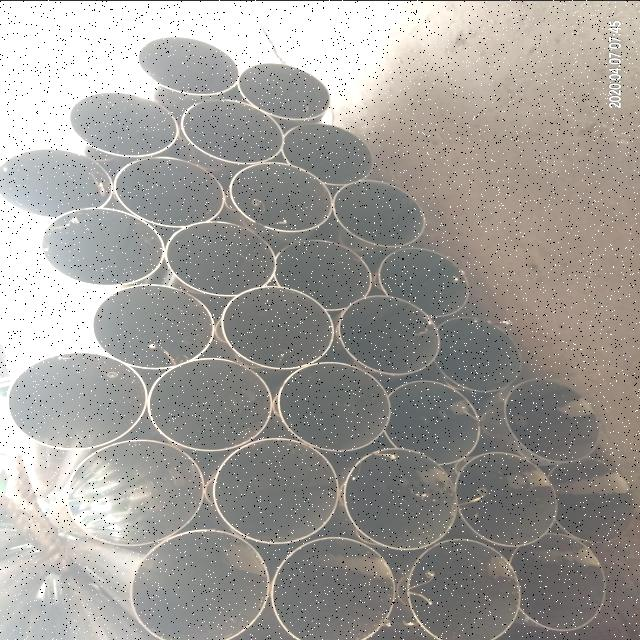pipe: (126, 527, 274, 640), (210, 433, 348, 548), (65, 437, 206, 548), (7, 352, 152, 449), (268, 534, 396, 640), (343, 446, 463, 552), (144, 357, 276, 453), (405, 536, 525, 640), (90, 280, 218, 370), (276, 357, 392, 453), (454, 450, 560, 548), (39, 207, 170, 285), (506, 530, 606, 632), (222, 283, 338, 369), (160, 218, 282, 298), (379, 379, 484, 467), (108, 154, 230, 227), (338, 294, 442, 376), (0, 148, 118, 218), (503, 378, 601, 462), (546, 452, 634, 544), (270, 236, 374, 313), (67, 90, 184, 158), (432, 314, 526, 392), (230, 160, 333, 231), (328, 175, 428, 248), (180, 96, 285, 164), (378, 246, 472, 318), (136, 35, 245, 96), (280, 121, 376, 185), (240, 58, 338, 120)
